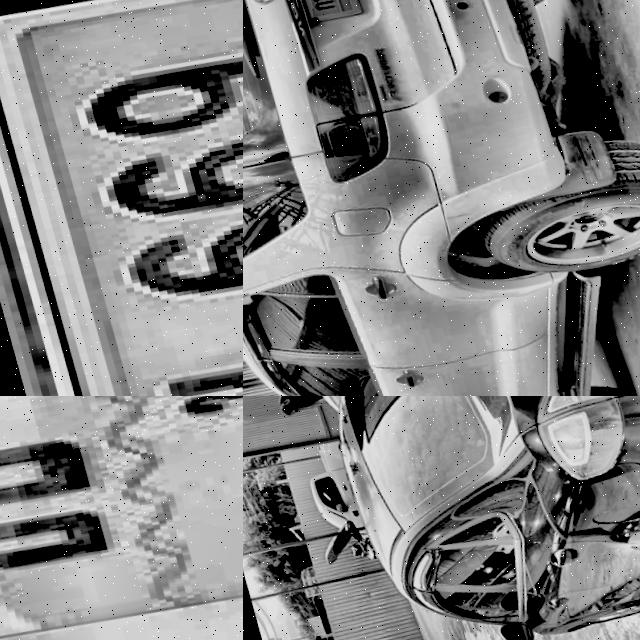license-plate: (0, 0, 243, 396), (0, 396, 243, 640), (280, 0, 361, 25)
